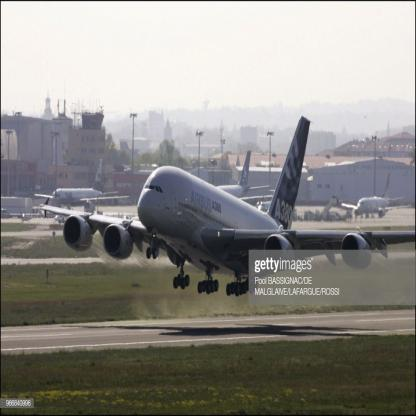CIV_Plane: (29, 108, 414, 315)
